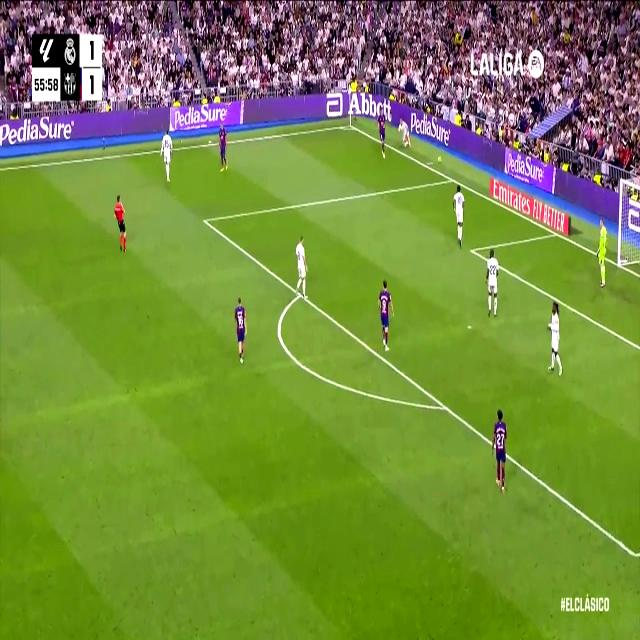bigarea_bottom_inner: (628, 536, 640, 572)
bigarea_top_inner: (200, 209, 210, 231)
bottom_arc_area_intersection: (439, 394, 450, 418)
corner: (346, 120, 354, 131)
smallarea_top_inner: (470, 243, 475, 257)
top_arc_area_intersection: (295, 285, 305, 303)
